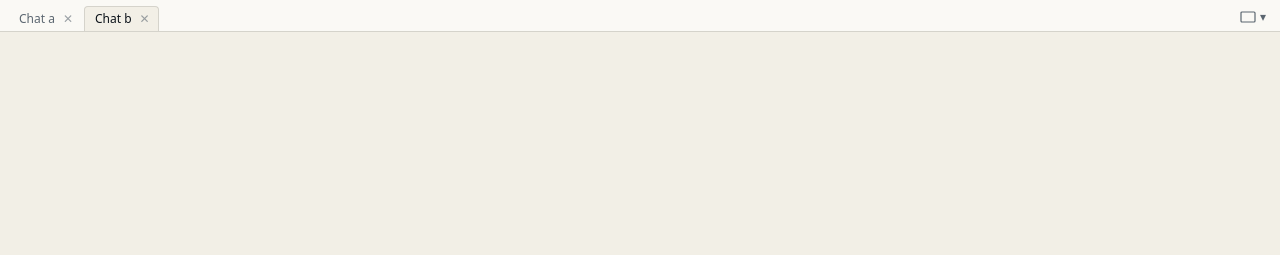
TabBar (#824) › switching layout keeps the tab bar, numbers tabs by pane, and fills new panes with tabs
The image size is (1280, 255).
Click the button named "Layout: One chat" at point(1253, 16), box [1234,6,1272,26]
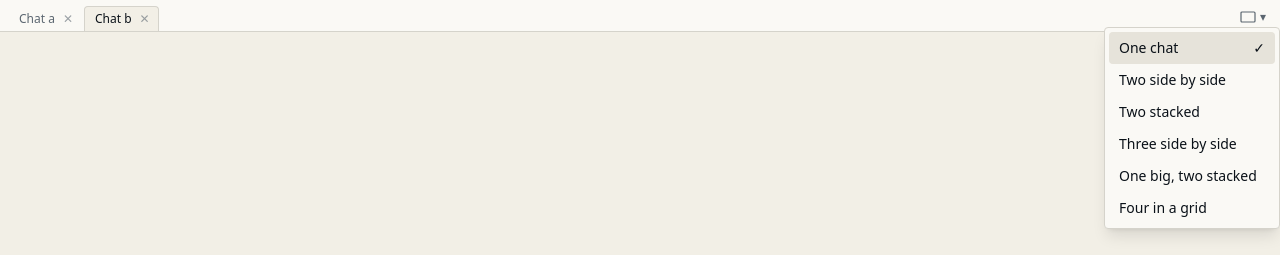
Click the menu item "Two side by side" at point(1192, 80), box [1109,64,1275,96]
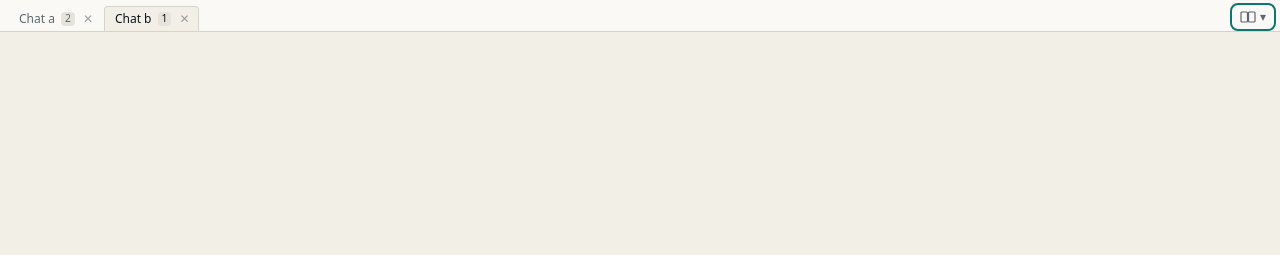
Expected: the button named "Layout: Two side by side" is shown, [1234,6,1272,26]
Expected: the text with test id "tab-pane-b" reads "1", [162,11,168,25]
Expected: the text with test id "tab-pane-a" reads "2", [65,11,71,25]
